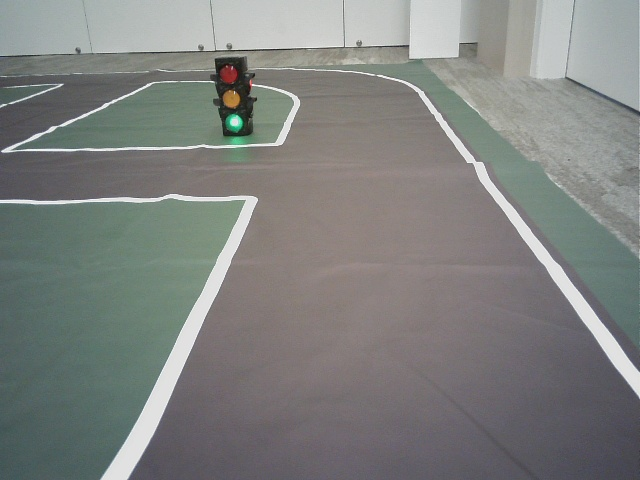green: (214, 57, 248, 130)
